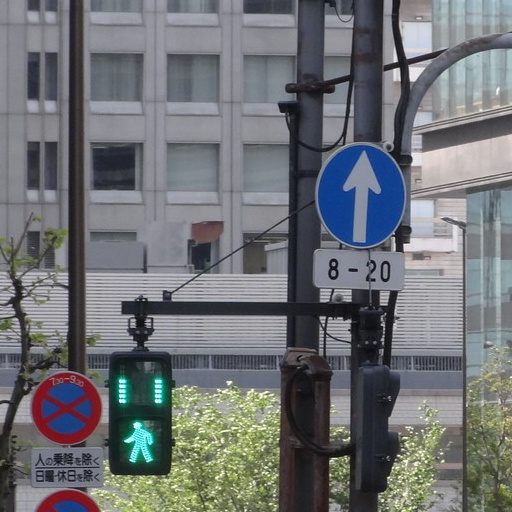Pedestrian_Signal_Blue: (110, 347, 174, 475)
